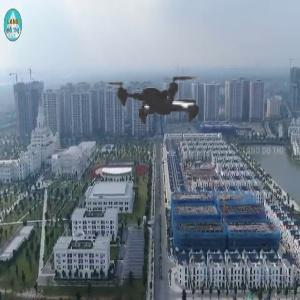drone: (78, 27, 244, 193)
